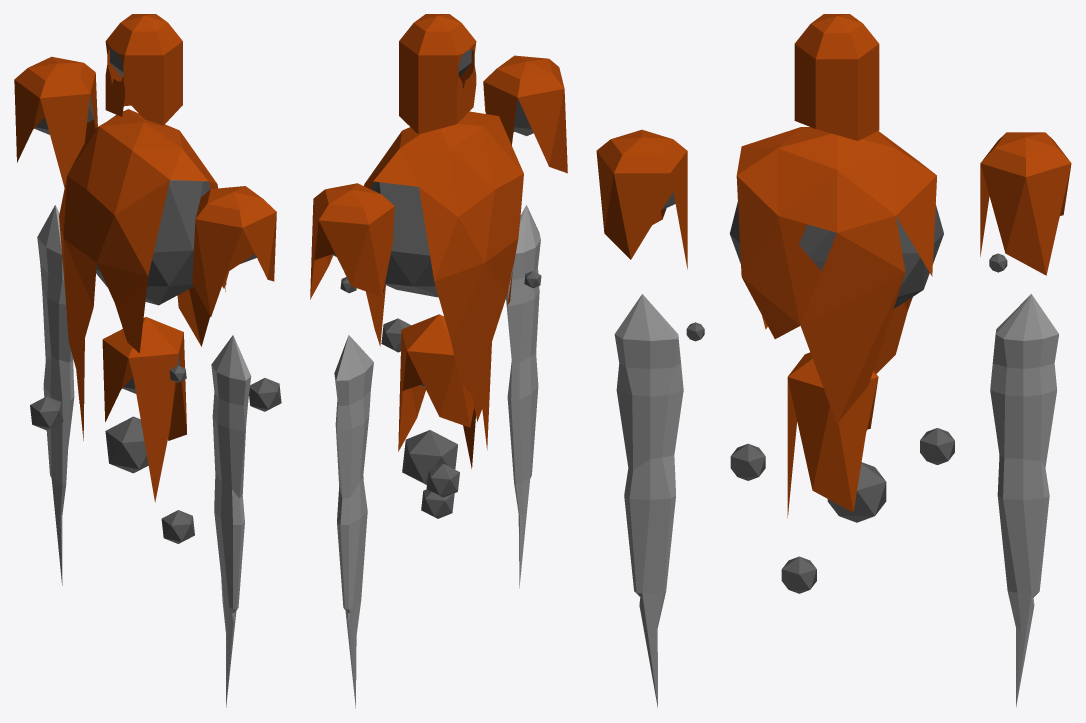
The model's file is Mémoire de lame.fbx.
The picture shows the model from 3 angles, left to right: view 1: azimuth 30°, elevation 25°; view 2: azimuth 150°, elevation 25°; view 3: azimuth 270°, elevation 25°; orthographic projection. The views are drawn at different scales.
Visible parts, largest first — view 1: Icosphère.008, Cône.001, Icosphère.010, Icosphère.012, Sphère.001, Icosphère.007, Cône, Icosphère.015, Icosphère, Icosphère.016, Icosphère.017, Sphère.002 (+5 smaller); view 2: Icosphère.008, Cône, Cône.001, Icosphère.007, Sphère.001, Icosphère.010, Icosphère.012, Icosphère.015, Icosphère, Sphère.002, Icosphère.014, Icosphère.016 (+5 smaller); view 3: Icosphère.008, Cône, Cône.001, Icosphère.015, Icosphère.007, Sphère.001, Icosphère.012, Icosphère.010, Icosphère.016, Icosphère, Icosphère.014, Icosphère.017 (+5 smaller).
Boxes of the visible parts, left/top/right/bottom form: Icosphère.008: left=59, top=109, right=226, bottom=440; Cône.001: left=211, top=335, right=251, bottom=707; Icosphère.010: left=102, top=317, right=186, bottom=502; Icosphère.012: left=192, top=186, right=276, bottom=316; Sphère.001: left=105, top=14, right=182, bottom=125; Icosphère.007: left=14, top=56, right=97, bottom=187; Cône: left=37, top=205, right=74, bottom=585; Icosphère.015: left=59, top=109, right=217, bottom=351; Icosphère: left=96, top=180, right=210, bottom=305; Icosphère.016: left=103, top=318, right=185, bottom=485; Icosphère.017: left=193, top=187, right=276, bottom=314; Sphère.002: left=106, top=14, right=182, bottom=123; Icosphère.008: left=364, top=111, right=523, bottom=449; Cône: left=334, top=335, right=373, bottom=708; Cône.001: left=506, top=205, right=540, bottom=588; Icosphère.007: left=310, top=183, right=394, bottom=299; Sphère.001: left=399, top=14, right=476, bottom=134; Icosphère.010: left=398, top=314, right=475, bottom=468; Icosphère.012: left=483, top=55, right=567, bottom=173; Icosphère.015: left=364, top=111, right=523, bottom=378; Icosphère: left=371, top=181, right=438, bottom=297; Sphère.002: left=399, top=14, right=475, bottom=133; Icosphère.014: left=311, top=184, right=393, bottom=296; Icosphère.016: left=398, top=314, right=474, bottom=451; Icosphère.008: left=736, top=127, right=936, bottom=423; Cône: left=990, top=294, right=1059, bottom=707; Cône.001: left=614, top=294, right=683, bottom=707; Icosphère.015: left=737, top=127, right=936, bottom=422; Icosphère.007: left=980, top=132, right=1071, bottom=275; Sphère.001: left=794, top=14, right=879, bottom=140; Icosphère.012: left=596, top=129, right=687, bottom=269; Icosphère.010: left=787, top=352, right=878, bottom=517; Icosphère.016: left=787, top=354, right=877, bottom=511; Icosphère: left=729, top=201, right=943, bottom=308; Icosphère.014: left=980, top=132, right=1070, bottom=272; Icosphère.017: left=597, top=130, right=687, bottom=255.
Size of the model in its own units: 164 by 617 by 384.
